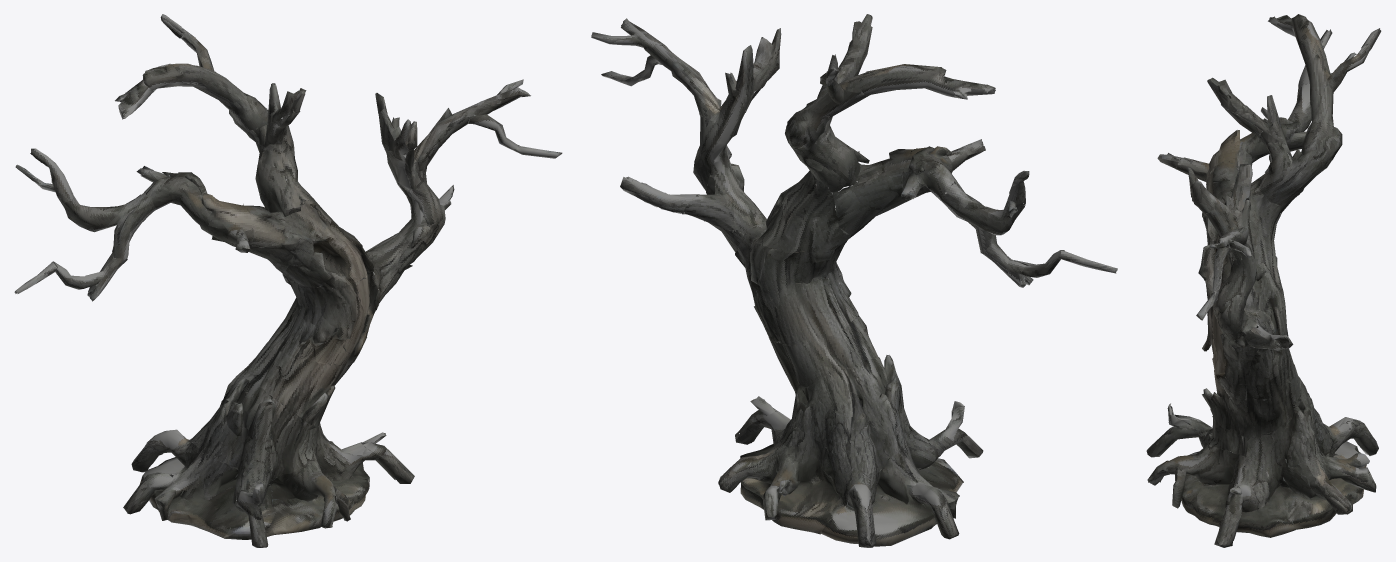
File: rp_tree.glb
The picture shows the model from 3 angles, left to right: view 1: azimuth 30°, elevation 25°; view 2: azimuth 150°, elevation 25°; view 3: azimuth 270°, elevation 25°; orthographic projection. The views are drawn at different scales.
Visible parts, largest first — view 1: rp_tree; view 2: rp_tree; view 3: rp_tree.
Part boxes in pixels (x1,y1,x2,y2): rp_tree: [14, 14, 562, 547]; rp_tree: [591, 14, 1117, 547]; rp_tree: [1146, 14, 1381, 547].
Size of the model in its own units: 4.78 by 4 by 1.92.
Materials: 1 (1 with a texture image).
